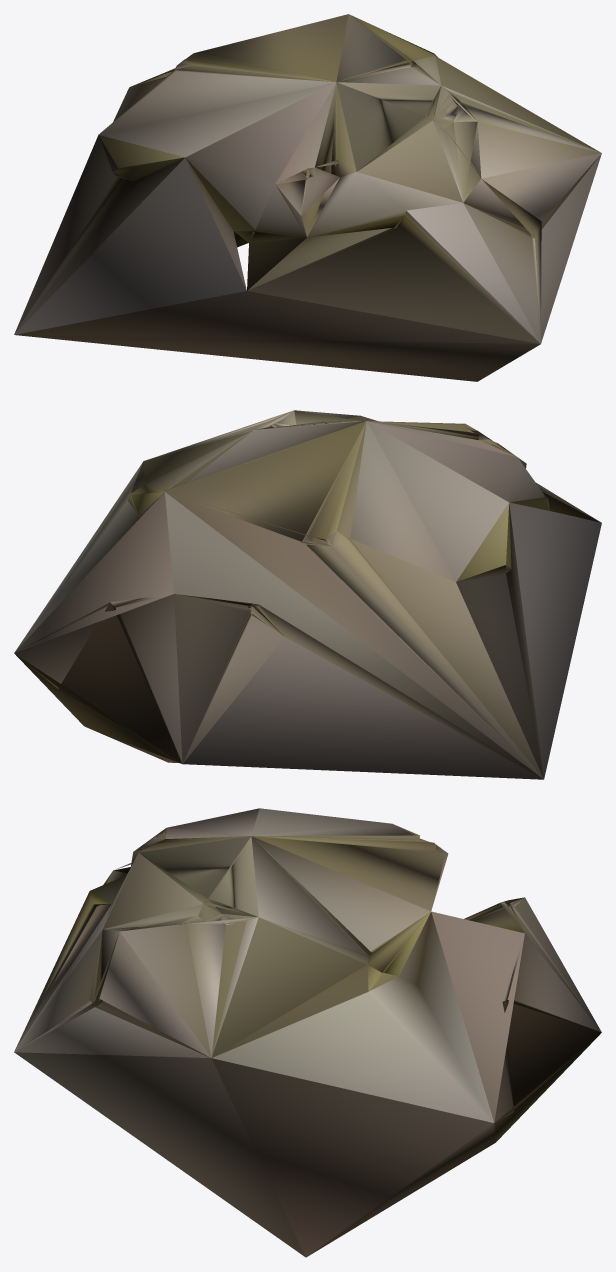
Rendered from granite_1_far.glb.
3 renders of one model, top to bottom at view 1: azimuth 30°, elevation 25°; view 2: azimuth 150°, elevation 25°; view 3: azimuth 270°, elevation 25°, orthographic. The views are drawn at different scales.
Visible parts, largest first — view 1: tripo_part_0; view 2: tripo_part_0; view 3: tripo_part_0.
Boxes of the visible parts, box(x1,y1,x2,y2) form: tripo_part_0: box(14, 14, 601, 381); tripo_part_0: box(14, 410, 601, 779); tripo_part_0: box(14, 808, 601, 1257).
Size of the model in its own units: 0.9446 by 0.6612 by 1.03.
